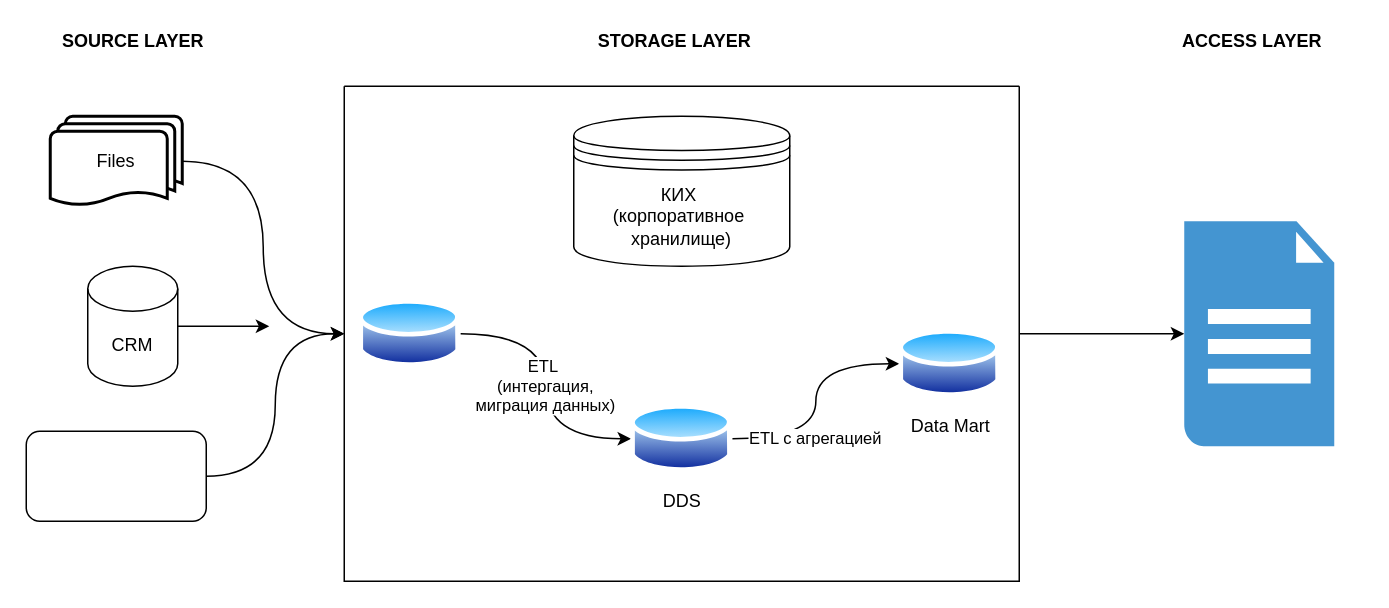
The diagram is 1389 pixels wide and 608 high, and some of its shapes have lost their labels. Each missing label, with the box of its shape:
ODS: (358, 296, 460, 370)
OLTP: (25, 430, 206, 521)
Reporting в Oracle BI 12c: (1184, 220, 1334, 446)
